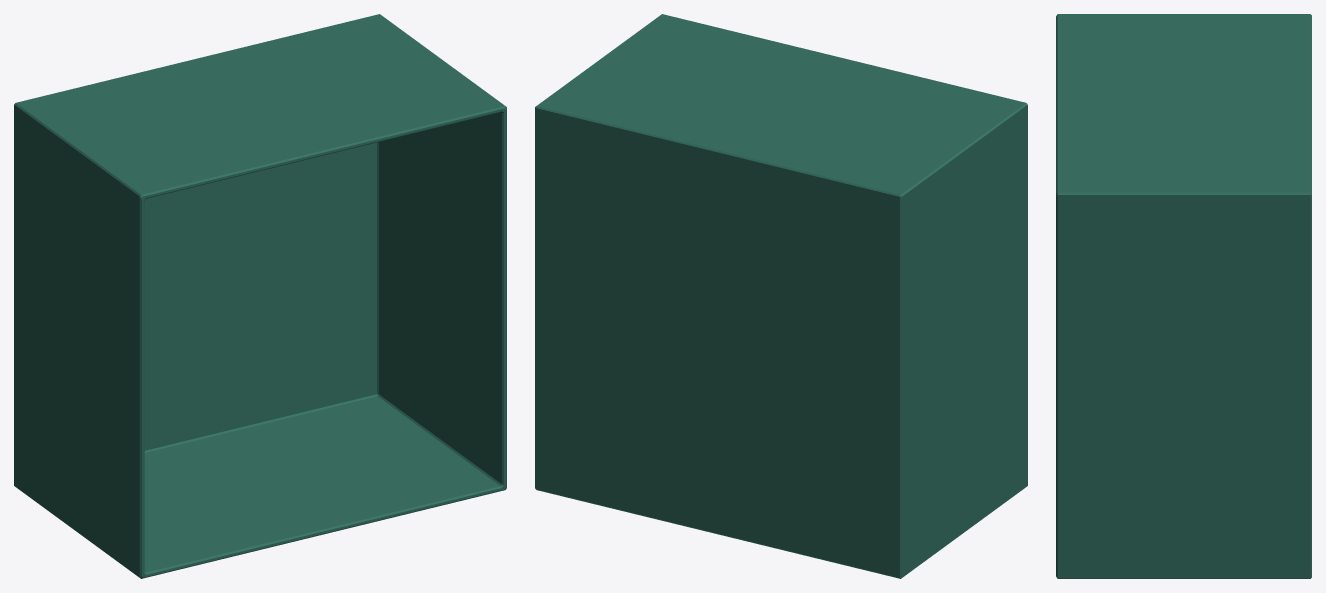
Rendered from Box_1_Box1Lid_0.obj.
The picture shows the model from 3 angles, left to right: view 1: azimuth 30°, elevation 25°; view 2: azimuth 150°, elevation 25°; view 3: azimuth 270°, elevation 25°; orthographic projection.
Parts seen in each view (by area): view 1: Box1Lid; view 2: Box1Lid; view 3: Box1Lid.
Boxes of the visible parts, x1,y1,x2,y2 form: Box1Lid: [14, 14, 506, 578]; Box1Lid: [535, 14, 1027, 578]; Box1Lid: [1056, 14, 1311, 578].
Size of the model in its own units: 0.2986 by 0.2986 by 0.1793.
